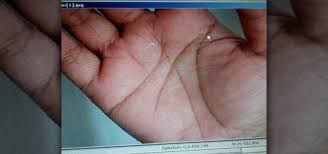palm: (113, 27, 256, 136)
